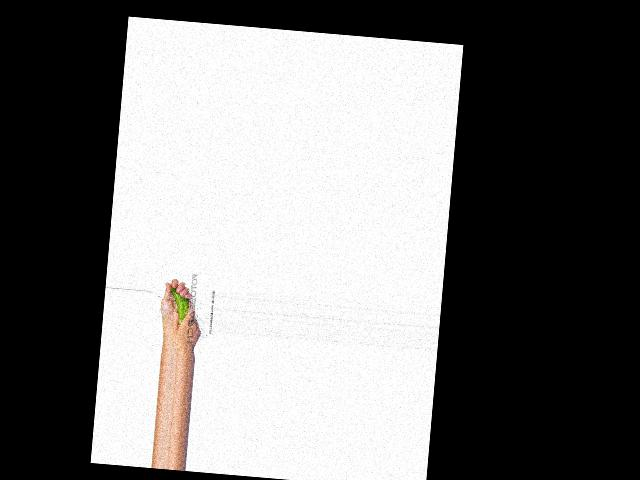cucumber: (167, 286, 191, 327)
